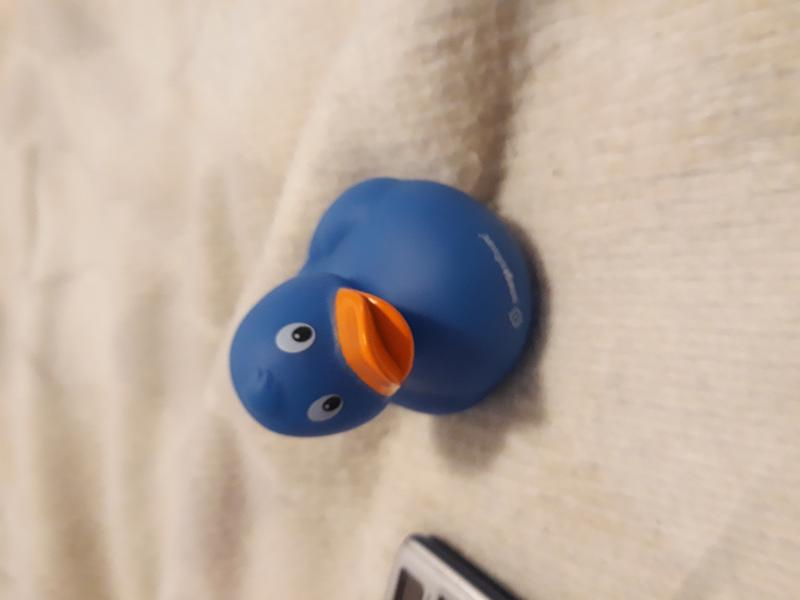plava_patkica: (192, 166, 562, 452)
